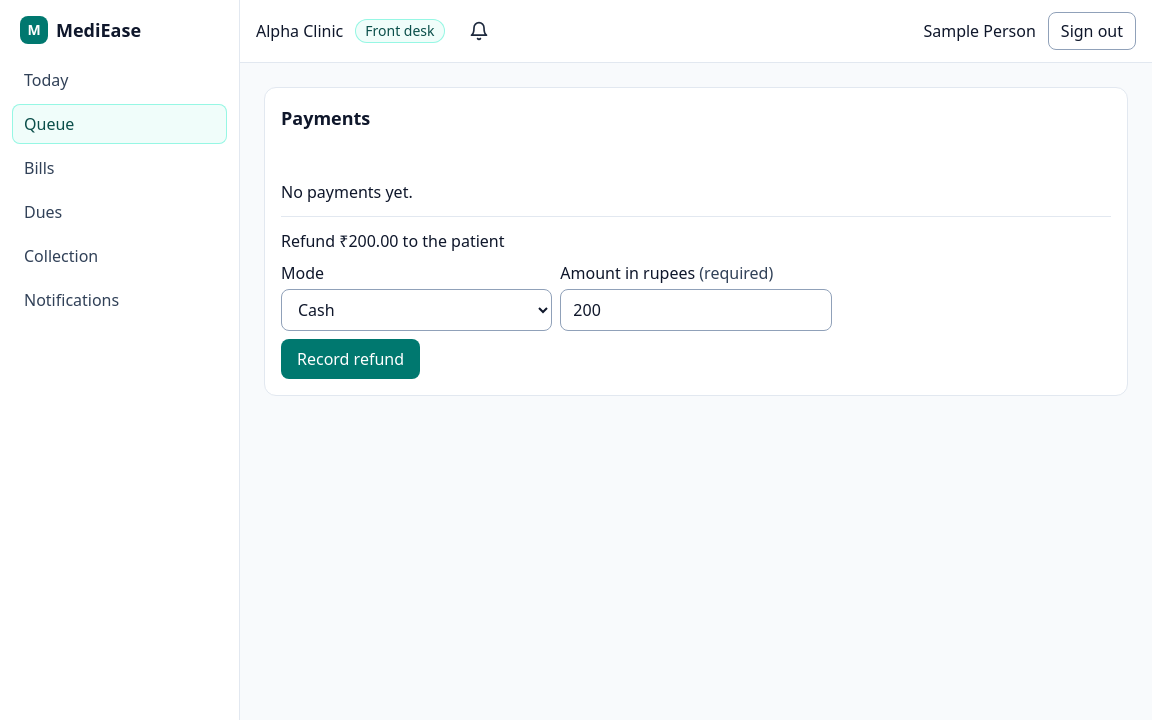
Test: payments on a bill (M6d-P3, billing R31-R36) › AC10: offers a refund when a credit note leaves the bill overpaid, and shows a refusal
This screenshot has width=1152, height=720.
Check: the text "Refund ₹200.00 to the patient" is shown, box 281,230 -> 504,252
Click the button "Record refund" at (351, 359), box 281,339 -> 420,379
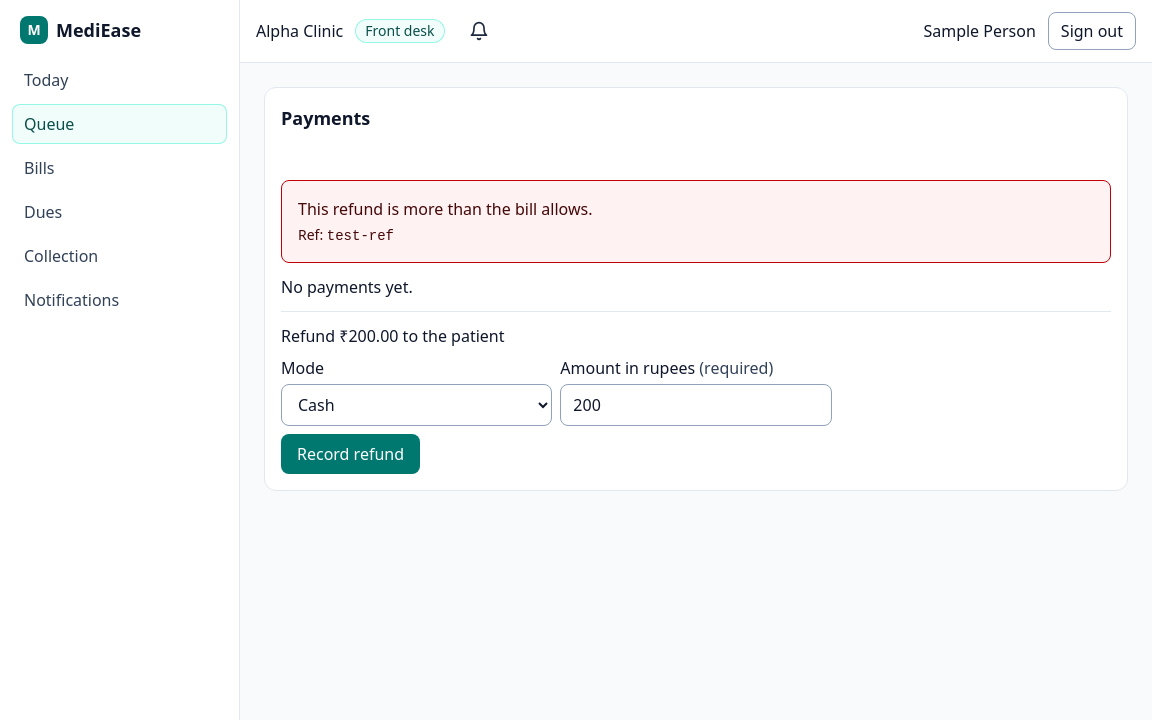
Check: the text "This refund is more than the bill allows." is shown, box 298,198 -> 592,220
